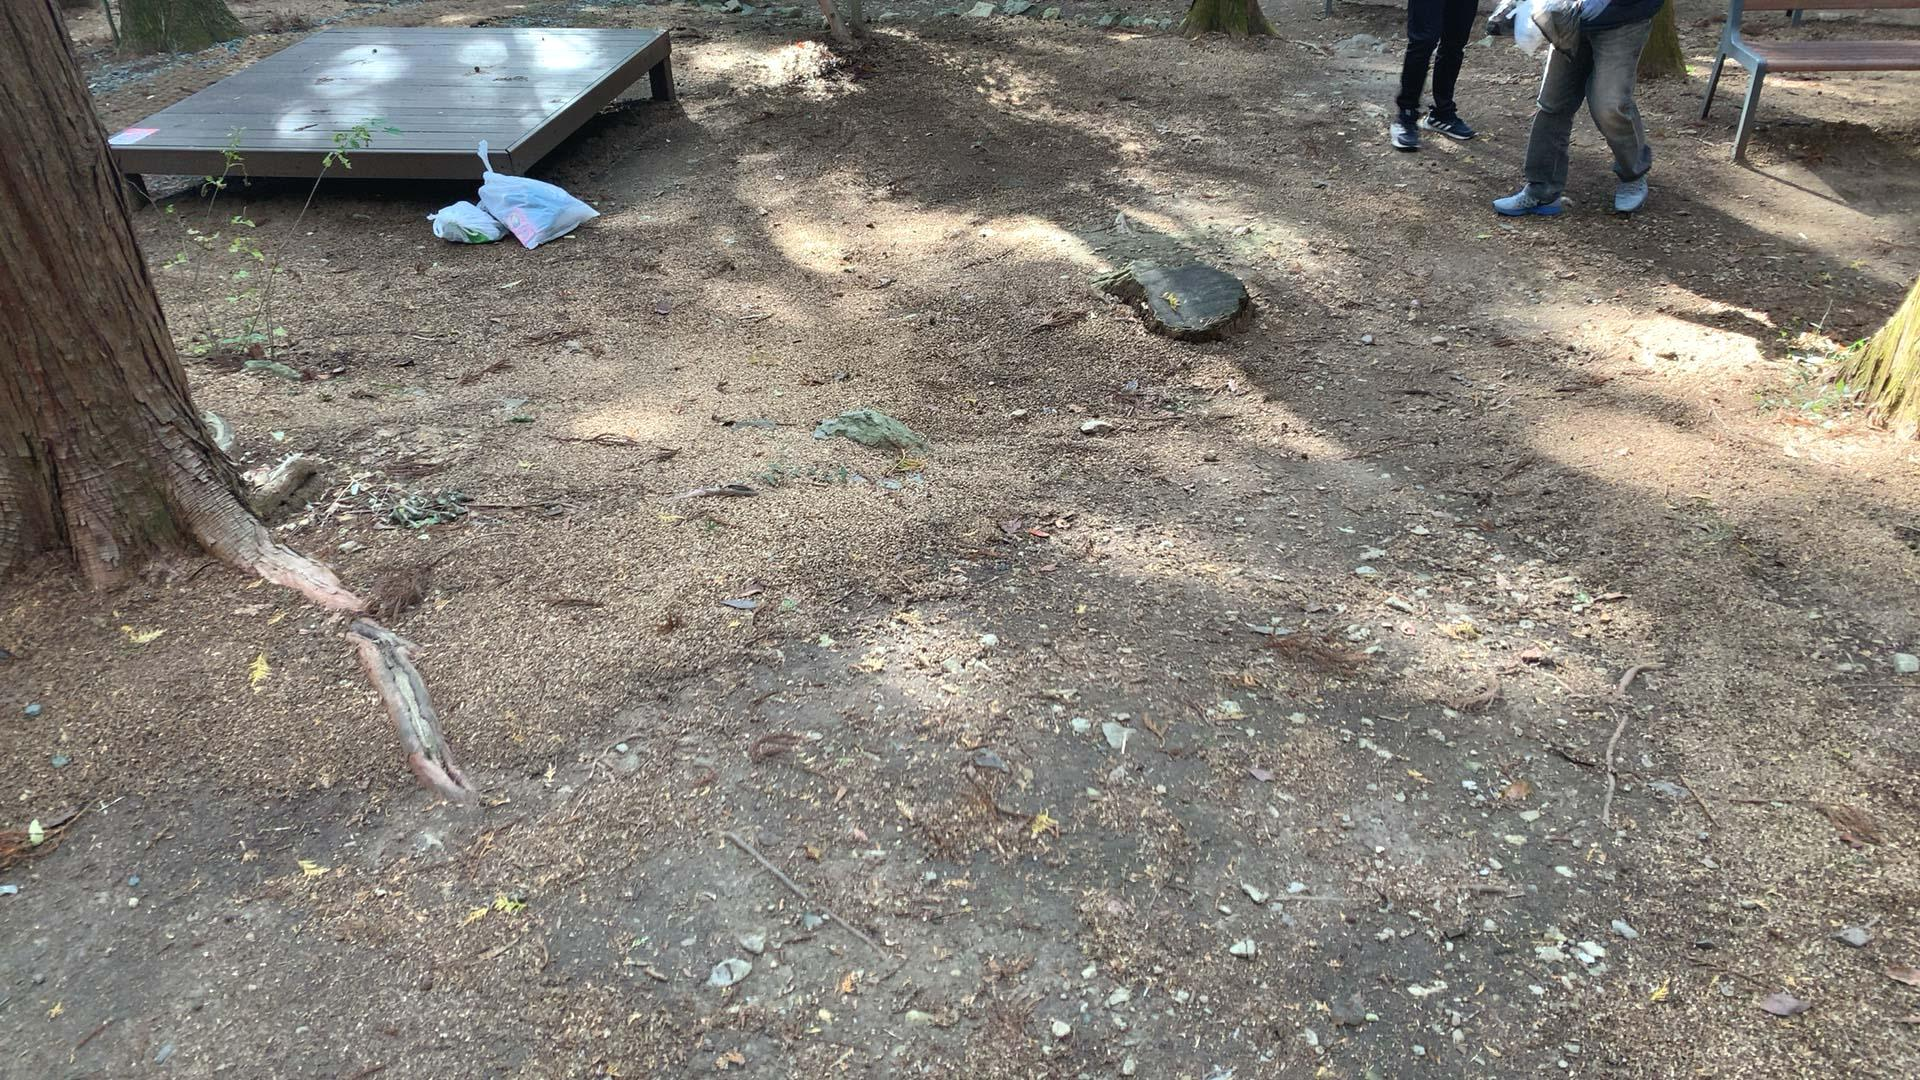white_bag: (472, 135, 604, 247), (421, 200, 512, 245)
